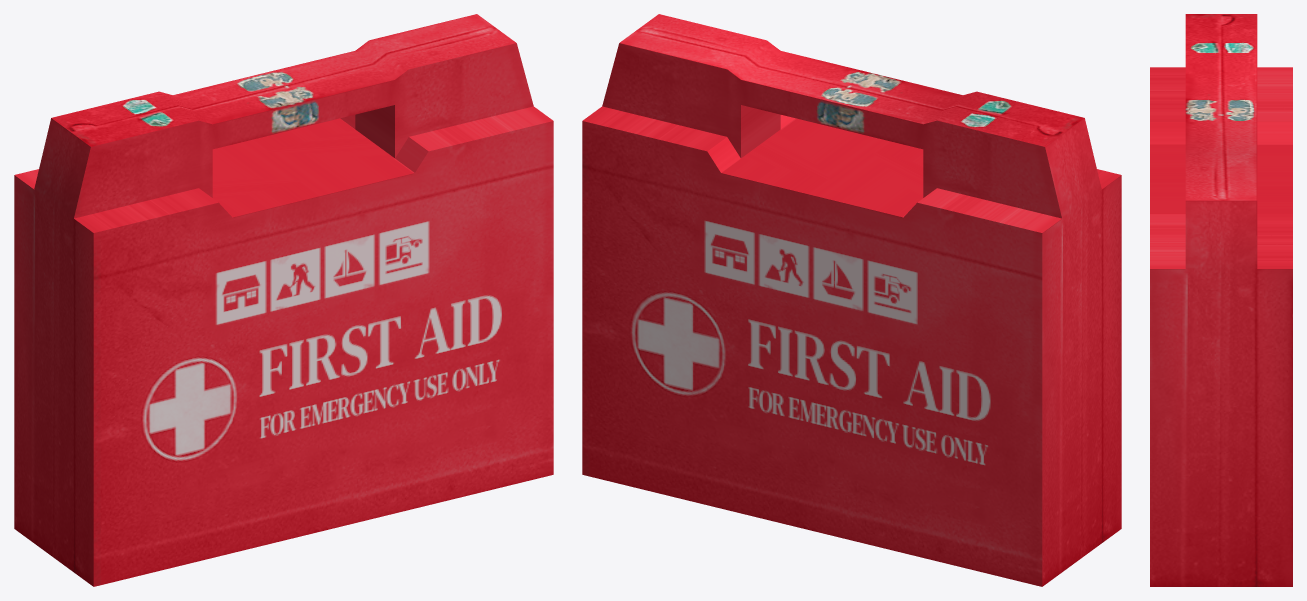
Rendered from medkit.glb.
3 renders of one model, left to right at view 1: azimuth 30°, elevation 25°; view 2: azimuth 150°, elevation 25°; view 3: azimuth 270°, elevation 25°, orthographic. The views are drawn at different scales.
Parts seen in each view (by area): view 1: FirstAid; view 2: FirstAid; view 3: FirstAid.
Boxes of the visible parts, x1,y1,x2,y2 form: FirstAid: (14, 14, 553, 586); FirstAid: (582, 14, 1121, 586); FirstAid: (1150, 14, 1292, 586).
Size of the model in its own units: 1.25 by 1.1 by 0.375.
1 material, 1 textured.
